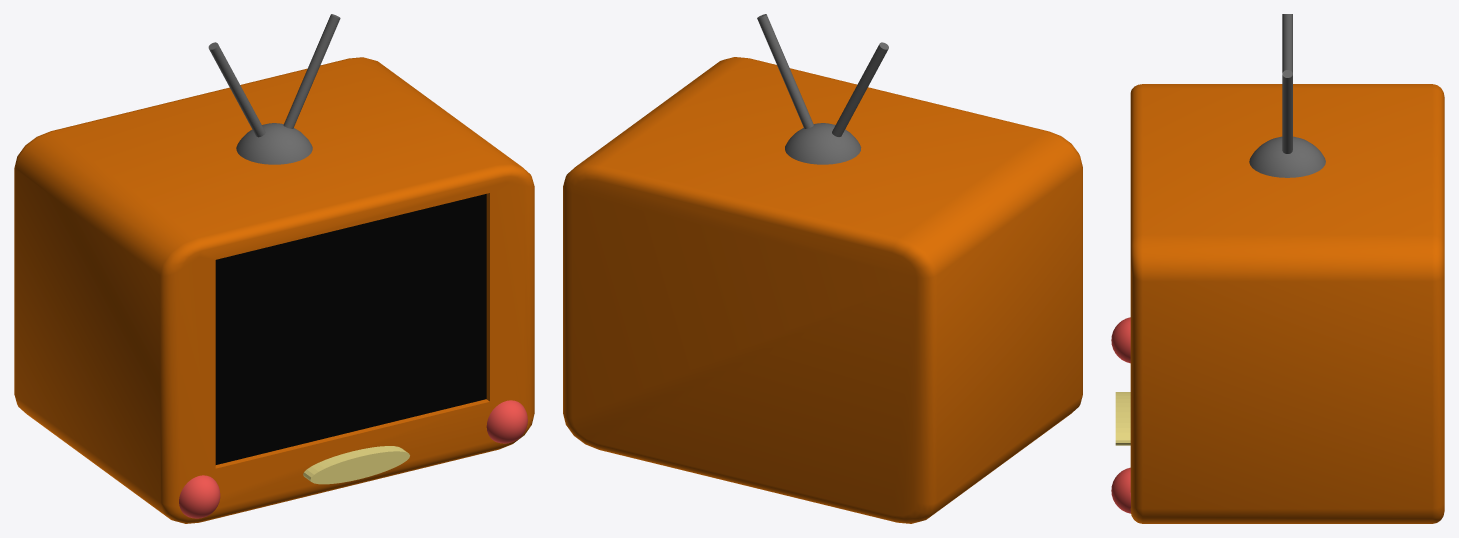
3 renders of one model, left to right at view 1: azimuth 30°, elevation 25°; view 2: azimuth 150°, elevation 25°; view 3: azimuth 270°, elevation 25°, orthographic.
Parts seen in each view (by area): view 1: Cube, 球, Cube.001, 円柱, 球.001; view 2: Cube, 円柱, 球.001; view 3: Cube, 球.001, 円柱, 球, Cube.001.
Boxes of the visible parts, box(x1,y1,x2,y2) form: Cube: box(14, 57, 534, 523); 球: box(179, 400, 527, 518); Cube.001: box(303, 446, 409, 484); 円柱: box(208, 14, 340, 137); 球.001: box(236, 123, 312, 164); Cube: box(563, 57, 1082, 523); 円柱: box(757, 14, 888, 136); 球.001: box(785, 123, 861, 164); Cube: box(1130, 84, 1444, 523); 球.001: box(1249, 136, 1325, 177); 円柱: box(1282, 14, 1292, 153); 球: box(1111, 317, 1130, 513); Cube.001: box(1115, 392, 1130, 445).
Bounding box in the file's own units: 8247 × 8526 × 6367.
